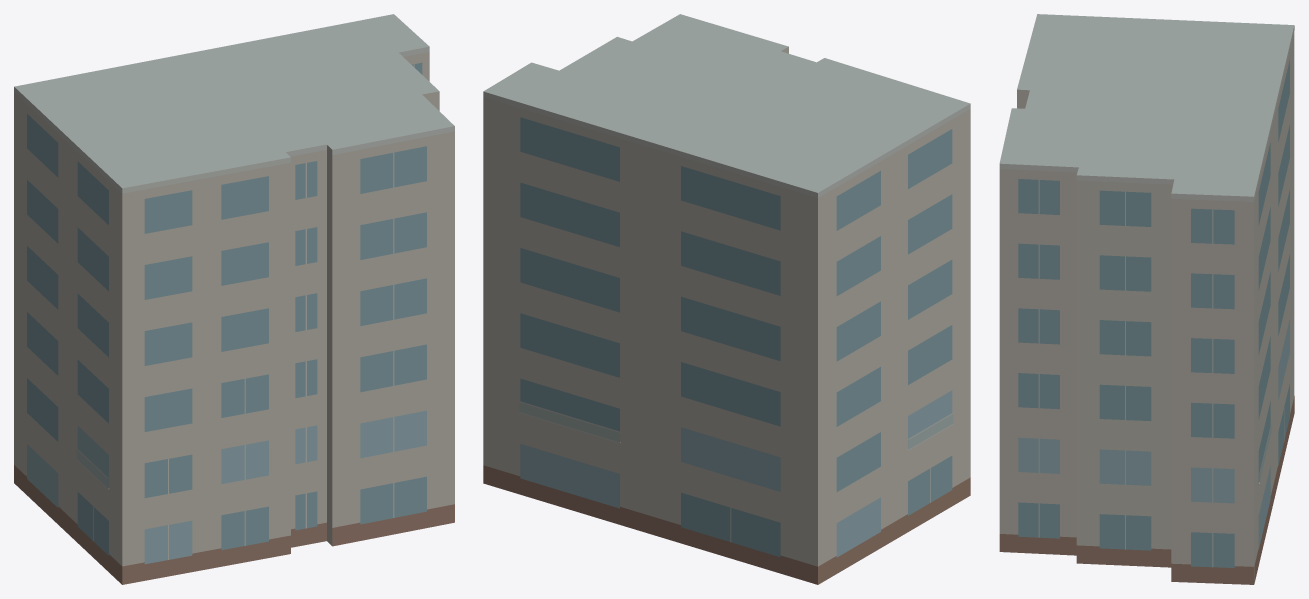
The model's file is survey-upis-32941997.glb.
The picture shows the model from 3 angles, left to right: view 1: azimuth 30°, elevation 25°; view 2: azimuth 150°, elevation 25°; view 3: azimuth 270°, elevation 25°; orthographic projection. The views are drawn at different scales.
Parts seen in each view (by area): view 1: survey-upis-32941997.tmp; view 2: survey-upis-32941997.tmp; view 3: survey-upis-32941997.tmp.
Part boxes in pixels (left/top/right/bottom): survey-upis-32941997.tmp: left=14, top=14, right=454, bottom=584; survey-upis-32941997.tmp: left=483, top=14, right=970, bottom=584; survey-upis-32941997.tmp: left=999, top=14, right=1294, bottom=584.
Size of the model in its own units: 18.48 by 18.3 by 12.61.
